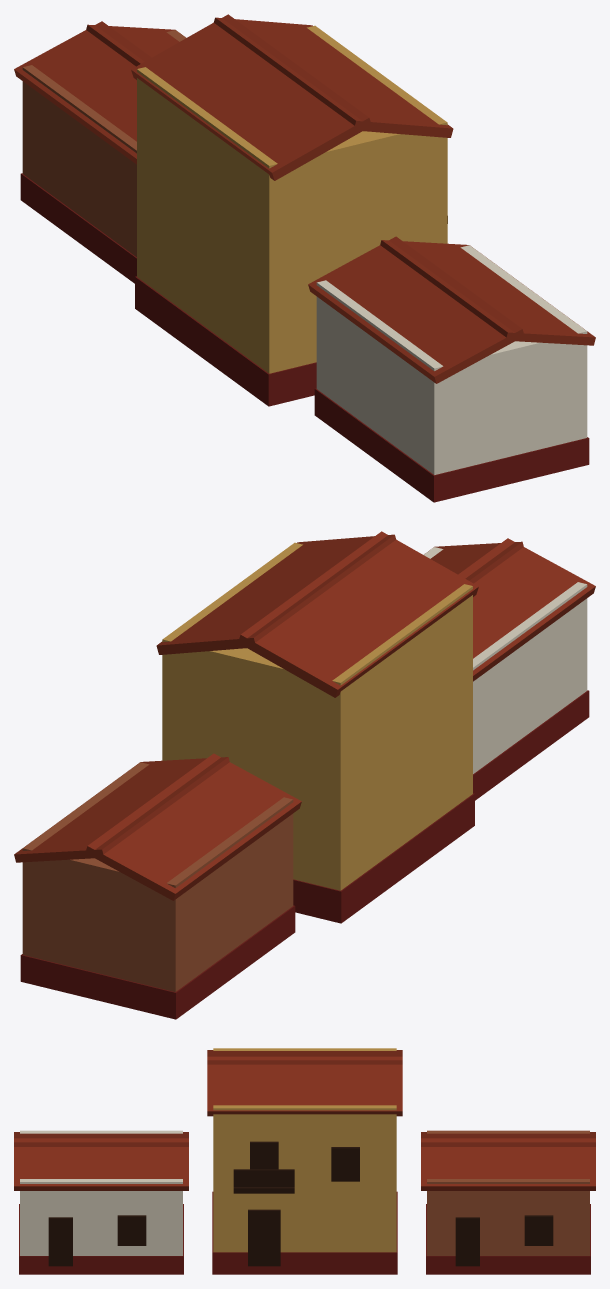
Rendered from Casas.obj.
3 renders of one model, top to bottom at view 1: azimuth 30°, elevation 25°; view 2: azimuth 150°, elevation 25°; view 3: azimuth 270°, elevation 25°, orthographic. The views are drawn at different scales.
Parts seen in each view (by area): view 1: Casa_Izq_2_Cuerpo, Casa_Izq_1_Cuerpo, Casa_Izq_2_Techo_Izq, Casa_Izq_1_Techo_Izq, Casa_Izq_3_Cuerpo, Casa_Izq_2_Techo_Der, Casa_Izq_3_Techo_Izq, Casa_Izq_1_Zocalo, Casa_Izq_1_Techo_Der, Casa_Izq_2_Zocalo, Casa_Izq_3_Zocalo, Casa_Izq_3_Techo_Der; view 2: Casa_Izq_2_Cuerpo, Casa_Izq_3_Cuerpo, Casa_Izq_2_Techo_Izq, Casa_Izq_3_Techo_Izq, Casa_Izq_1_Cuerpo, Casa_Izq_2_Techo_Der, Casa_Izq_1_Techo_Izq, Casa_Izq_3_Zocalo, Casa_Izq_3_Techo_Der, Casa_Izq_2_Zocalo, Casa_Izq_1_Zocalo, Casa_Izq_1_Techo_Der; view 3: Casa_Izq_2_Cuerpo, Casa_Izq_1_Cuerpo, Casa_Izq_3_Cuerpo, Casa_Izq_2_Techo_Der, Casa_Izq_1_Techo_Der, Casa_Izq_3_Techo_Der, Casa_Izq_2_Zocalo, Casa_Izq_1_Zocalo, Casa_Izq_3_Zocalo, Casa_Izq_2_Techo_Izq, Casa_Izq_1_Techo_Izq, Casa_Izq_3_Techo_Izq (+9 smaller).
Boxes of the visible parts, box(x1,y1,x2,y2) form: Casa_Izq_2_Cuerpo: box(137, 25, 447, 373); Casa_Izq_1_Cuerpo: box(316, 245, 587, 474); Casa_Izq_2_Techo_Izq: box(131, 14, 371, 180); Casa_Izq_1_Techo_Izq: box(308, 236, 524, 383); Casa_Izq_3_Cuerpo: box(22, 30, 185, 256); Casa_Izq_2_Techo_Der: box(213, 17, 453, 137); Casa_Izq_3_Techo_Izq: box(14, 21, 151, 164); Casa_Izq_1_Zocalo: box(314, 388, 589, 502); Casa_Izq_1_Techo_Der: box(380, 240, 595, 345); Casa_Izq_2_Zocalo: box(135, 276, 316, 406); Casa_Izq_3_Zocalo: box(20, 173, 136, 283); Casa_Izq_3_Techo_Der: box(86, 24, 184, 66); Casa_Izq_2_Cuerpo: box(162, 542, 472, 890); Casa_Izq_3_Cuerpo: box(22, 762, 293, 991); Casa_Izq_2_Techo_Izq: box(238, 531, 478, 697); Casa_Izq_3_Techo_Izq: box(85, 753, 301, 900); Casa_Izq_1_Cuerpo: box(424, 547, 587, 773); Casa_Izq_2_Techo_Der: box(156, 534, 396, 654); Casa_Izq_1_Techo_Izq: box(458, 538, 595, 681); Casa_Izq_3_Zocalo: box(20, 905, 295, 1019); Casa_Izq_3_Techo_Der: box(14, 757, 229, 862); Casa_Izq_2_Zocalo: box(293, 793, 474, 923); Casa_Izq_1_Zocalo: box(473, 690, 589, 800); Casa_Izq_1_Techo_Der: box(425, 541, 523, 583); Casa_Izq_2_Cuerpo: box(213, 1048, 396, 1252); Casa_Izq_1_Cuerpo: box(20, 1130, 182, 1255); Casa_Izq_3_Cuerpo: box(427, 1130, 589, 1255); Casa_Izq_2_Techo_Der: box(207, 1056, 402, 1116); Casa_Izq_1_Techo_Der: box(14, 1138, 188, 1190); Casa_Izq_3_Techo_Der: box(421, 1138, 595, 1190); Casa_Izq_2_Zocalo: box(212, 1191, 397, 1274); Casa_Izq_1_Zocalo: box(19, 1204, 183, 1274); Casa_Izq_3_Zocalo: box(426, 1204, 590, 1274); Casa_Izq_2_Techo_Izq: box(207, 1050, 402, 1064); Casa_Izq_1_Techo_Izq: box(14, 1132, 188, 1146); Casa_Izq_3_Techo_Izq: box(421, 1132, 595, 1146).
Size of the model in its own units: 7.66 by 10.06 by 28.6.
